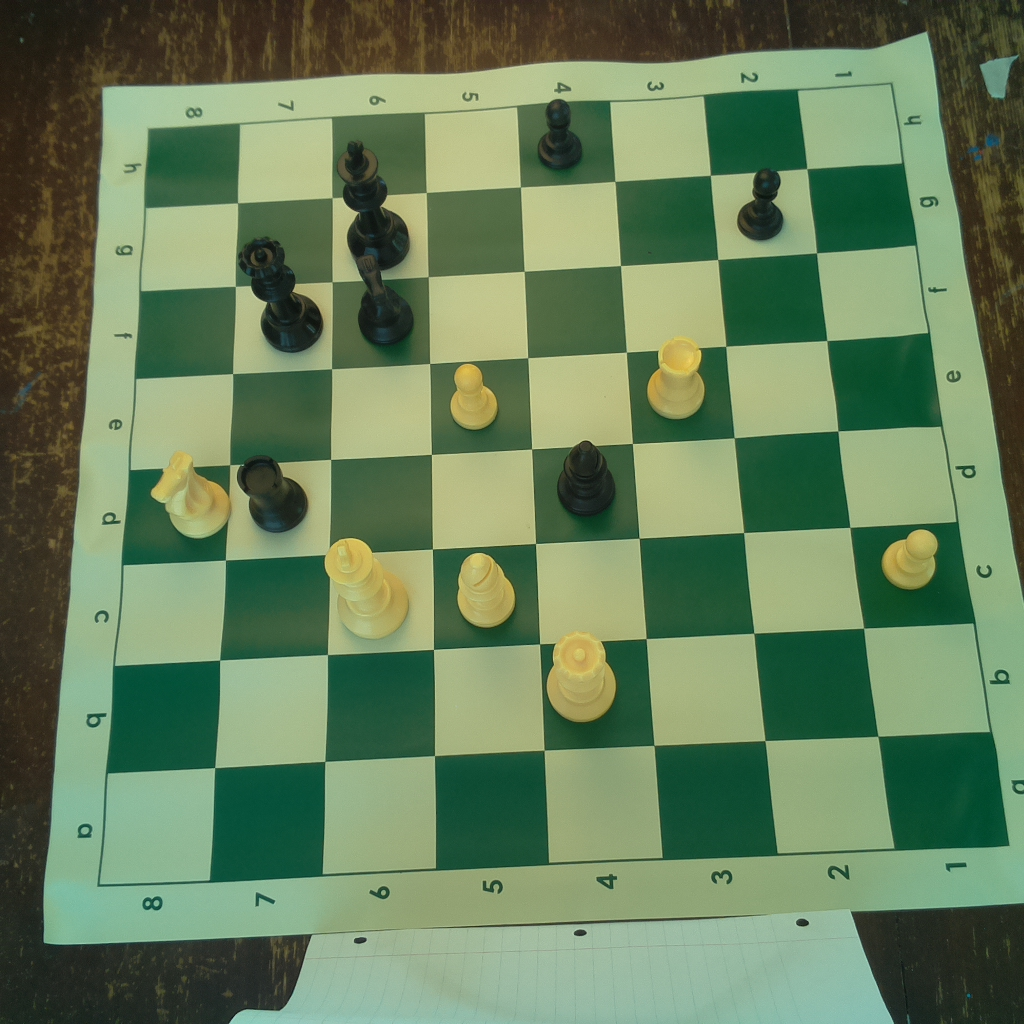black_bishop: (550, 435, 618, 517)
black_king: (329, 138, 416, 267)
black_knight: (347, 249, 419, 347)
black_pawn: (732, 164, 794, 241), (533, 96, 590, 171)
black_queen: (236, 234, 328, 352)
black_rook: (233, 453, 315, 539)
file_a: (99, 730, 1012, 886)
file_b: (105, 621, 990, 774)
file_c: (114, 522, 977, 666)
file_d: (124, 426, 958, 566)
file_e: (131, 332, 942, 471)
file_f: (138, 247, 929, 377)
file_g: (140, 165, 916, 290)
file_h: (142, 86, 903, 212)
outline: (94, 82, 1012, 883)
rank_1: (797, 82, 1011, 852)
rank_2: (705, 87, 896, 851)
rank_3: (611, 97, 779, 860)
rank_4: (519, 101, 666, 865)
rank_5: (424, 108, 549, 871)
rank_6: (321, 112, 438, 873)
rank_7: (208, 118, 334, 886)
rank_8: (97, 125, 240, 883)
white_bishop: (451, 551, 520, 628)
white_king: (319, 532, 415, 641)
white_knight: (149, 448, 232, 538)
white_pawn: (879, 514, 944, 593), (445, 361, 505, 432)
white_queen: (546, 630, 618, 725)
white_rook: (641, 334, 708, 422)
